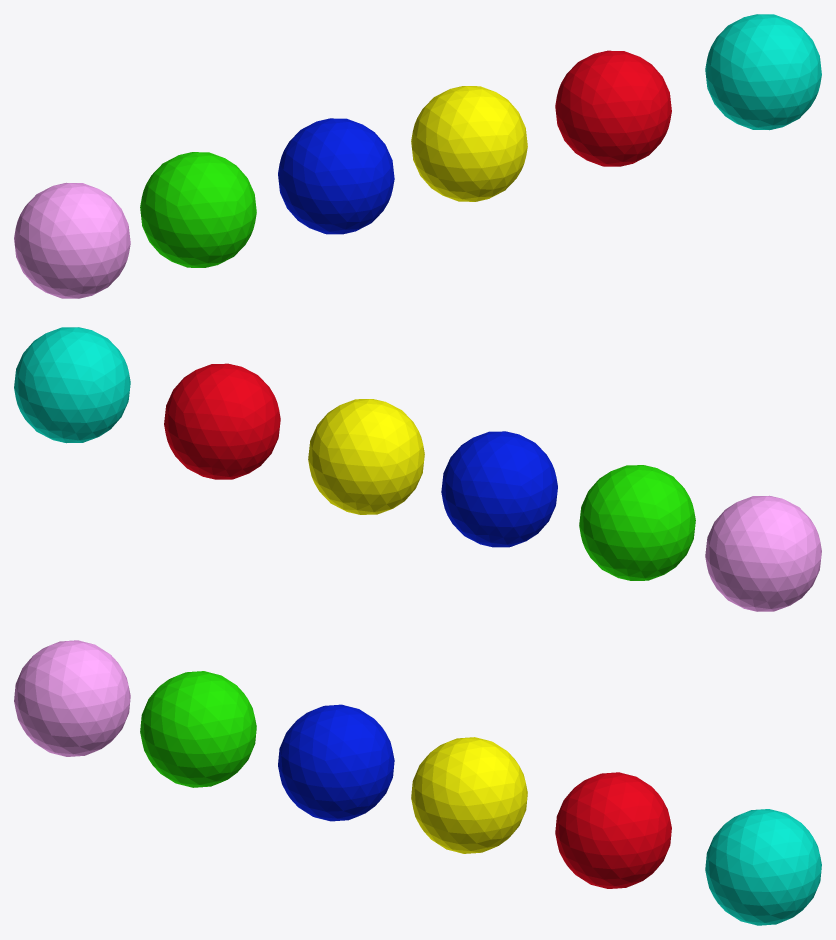
The model's file is diskotopugezegenler.fbx.
3 renders of one model, top to bottom at view 1: azimuth 30°, elevation 25°; view 2: azimuth 150°, elevation 25°; view 3: azimuth 330°, elevation 25°, orthographic.
Visible parts, largest first — view 1: Icosphere.003, Icosphere.002, Icosphere.006, Icosphere.001, Icosphere.004, Icosphere.005; view 2: Icosphere.003, Icosphere.002, Icosphere.006, Icosphere.001, Icosphere.004, Icosphere.005; view 3: Icosphere.001, Icosphere.004, Icosphere.005, Icosphere.003, Icosphere.002, Icosphere.006.
Part boxes in pixels (x1=…): Icosphere.003: x1=278, y1=118, x2=394, y2=234; Icosphere.002: x1=14, y1=182, x2=130, y2=298; Icosphere.006: x1=705, y1=14, x2=821, y2=130; Icosphere.001: x1=140, y1=152, x2=256, y2=267; Icosphere.004: x1=411, y1=86, x2=527, y2=201; Icosphere.005: x1=555, y1=50, x2=671, y2=166; Icosphere.003: x1=441, y1=431, x2=557, y2=547; Icosphere.002: x1=705, y1=495, x2=821, y2=611; Icosphere.006: x1=14, y1=327, x2=130, y2=443; Icosphere.001: x1=579, y1=465, x2=695, y2=580; Icosphere.004: x1=308, y1=399, x2=424, y2=514; Icosphere.005: x1=164, y1=363, x2=280, y2=479; Icosphere.001: x1=140, y1=671, x2=256, y2=787; Icosphere.004: x1=411, y1=737, x2=527, y2=853; Icosphere.005: x1=555, y1=772, x2=671, y2=888; Icosphere.003: x1=278, y1=704, x2=394, y2=821; Icosphere.002: x1=14, y1=640, x2=130, y2=756; Icosphere.006: x1=705, y1=809, x2=821, y2=925.
Size of the model in its own units: 7789 by 999 by 999.
